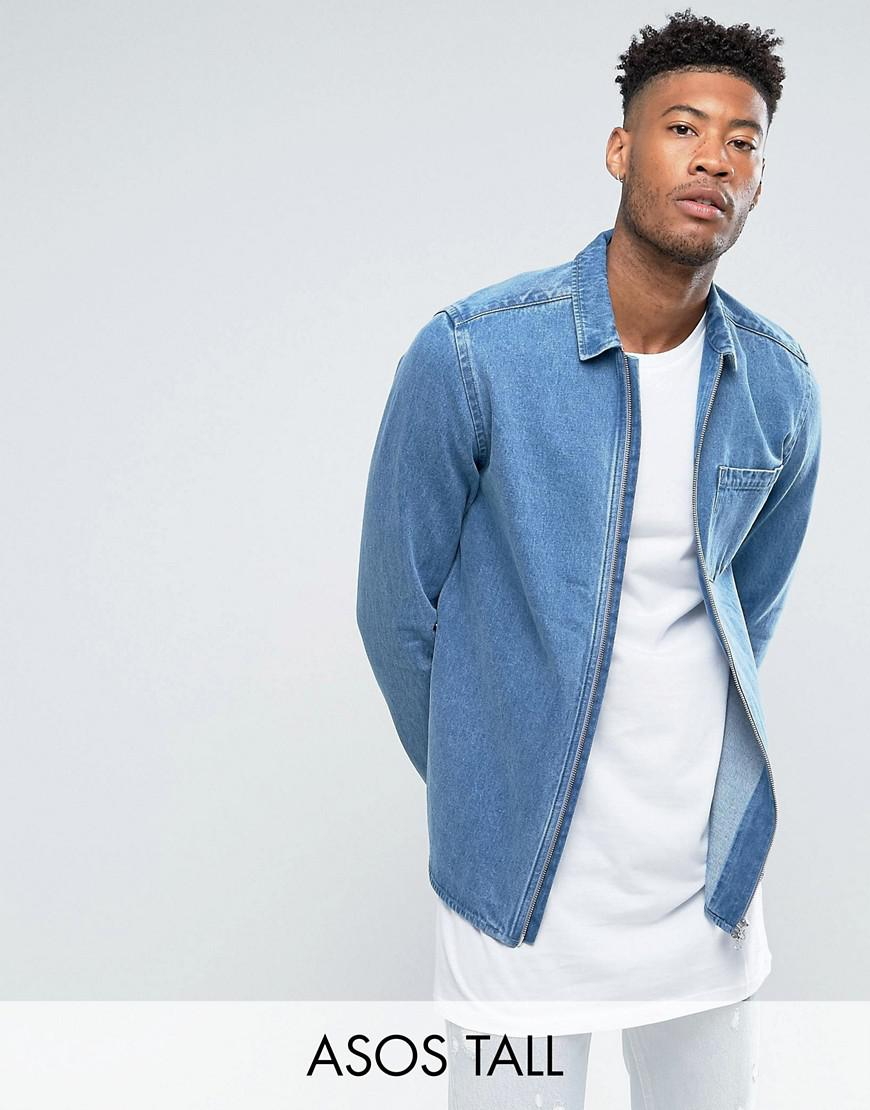teeshirt: (340, 232, 825, 890)
